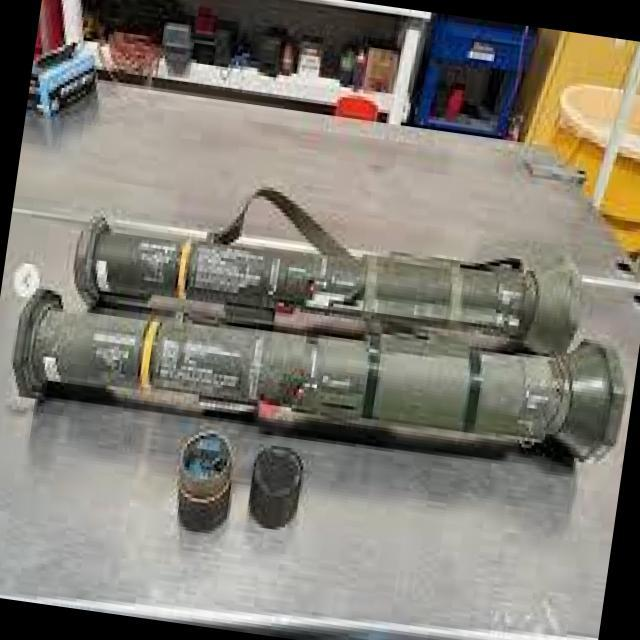rocket: (11, 192, 640, 467)
